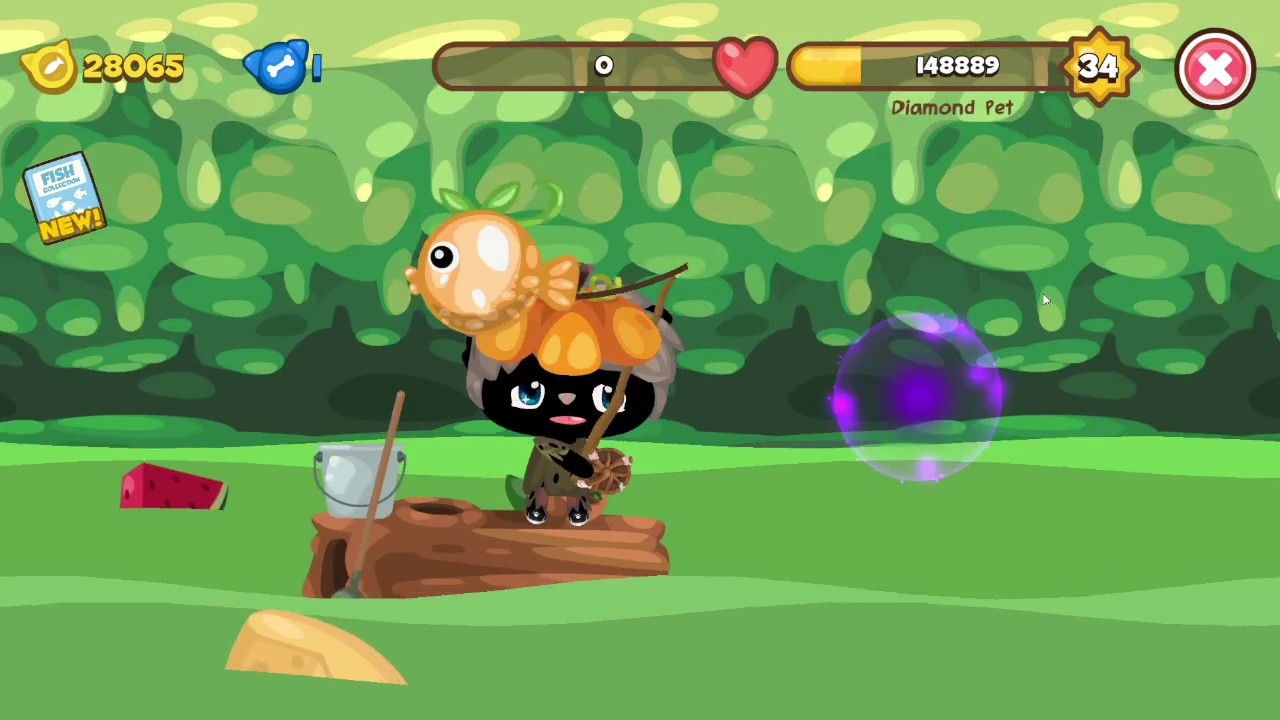point: (830, 311, 1005, 482)
